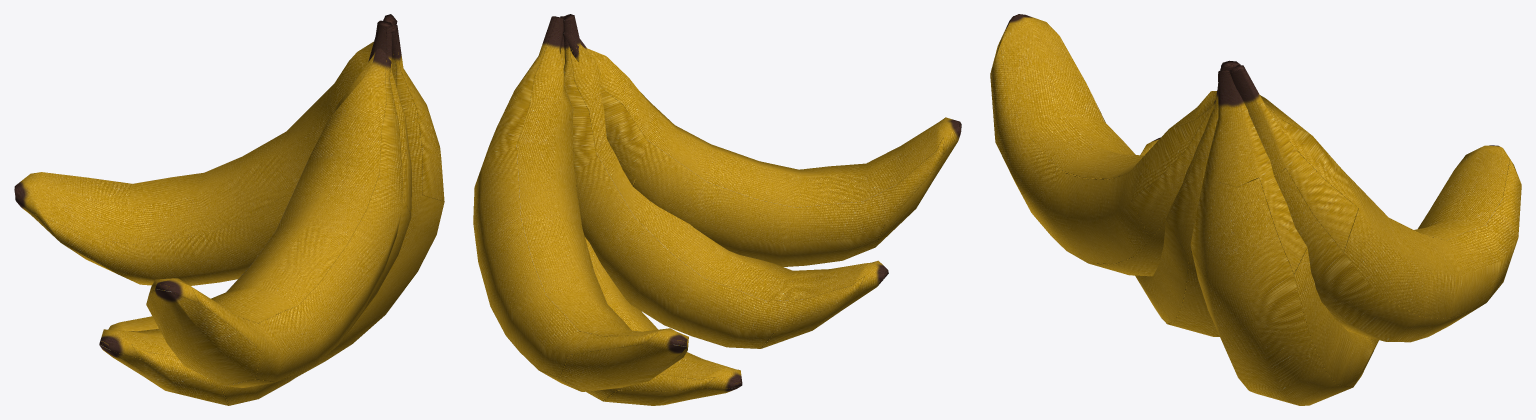
File: banana_finished.fbx
3 renders of one model, left to right at view 1: azimuth 30°, elevation 25°; view 2: azimuth 150°, elevation 25°; view 3: azimuth 270°, elevation 25°, orthographic. The views are drawn at different scales.
Parts seen in each view (by area): view 1: Banana1, Banana2, Banana3, Banana; view 2: Banana2, Banana1, Banana, Banana3; view 3: Banana2, Banana1, Banana3, Banana.
Part boxes in pixels (x1,y1,x2,y2): Banana1: (146, 35, 402, 387); Banana2: (14, 14, 397, 285); Banana3: (108, 24, 444, 375); Banana: (99, 20, 411, 405); Banana2: (473, 16, 688, 391); Banana1: (562, 27, 961, 266); Banana: (562, 14, 888, 348); Banana3: (517, 16, 742, 405); Banana2: (1228, 65, 1521, 342); Banana1: (990, 14, 1216, 276); Banana3: (1190, 70, 1378, 405); Banana: (1135, 60, 1258, 336).
Bounding box in the file's own units: 0.0279 × 0.0247 × 0.0311.
1 material, 1 textured.
